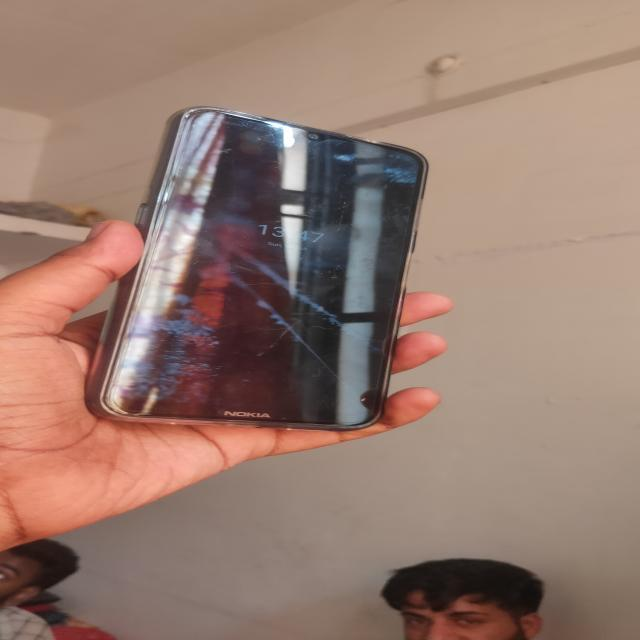Phone: (84, 103, 431, 430)
